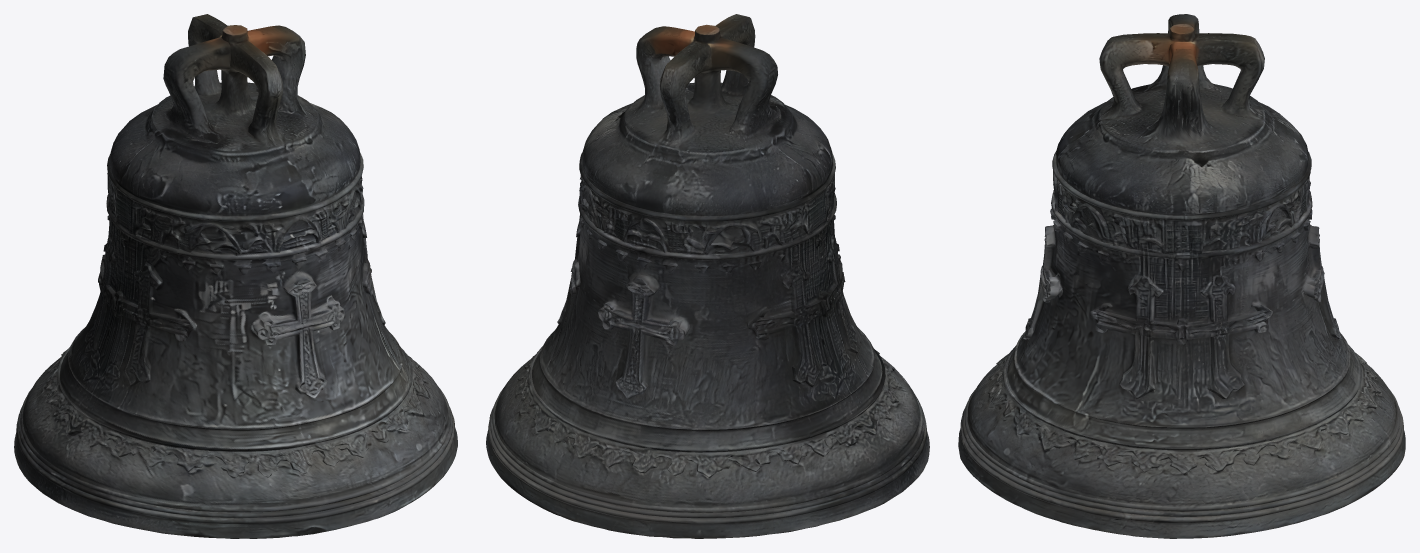
Rendered from campana.obj.
The picture shows the model from 3 angles, left to right: view 1: azimuth 30°, elevation 25°; view 2: azimuth 150°, elevation 25°; view 3: azimuth 270°, elevation 25°; orthographic projection.
Visible parts, largest first — view 1: model; view 2: model; view 3: model.
Part boxes in pixels (bbox=[...]): model: bbox=[14, 14, 457, 538]; model: bbox=[486, 14, 929, 538]; model: bbox=[958, 14, 1405, 538].
Size of the model in its own units: 1.56 by 1.89 by 1.55.
1 material, 1 textured.
